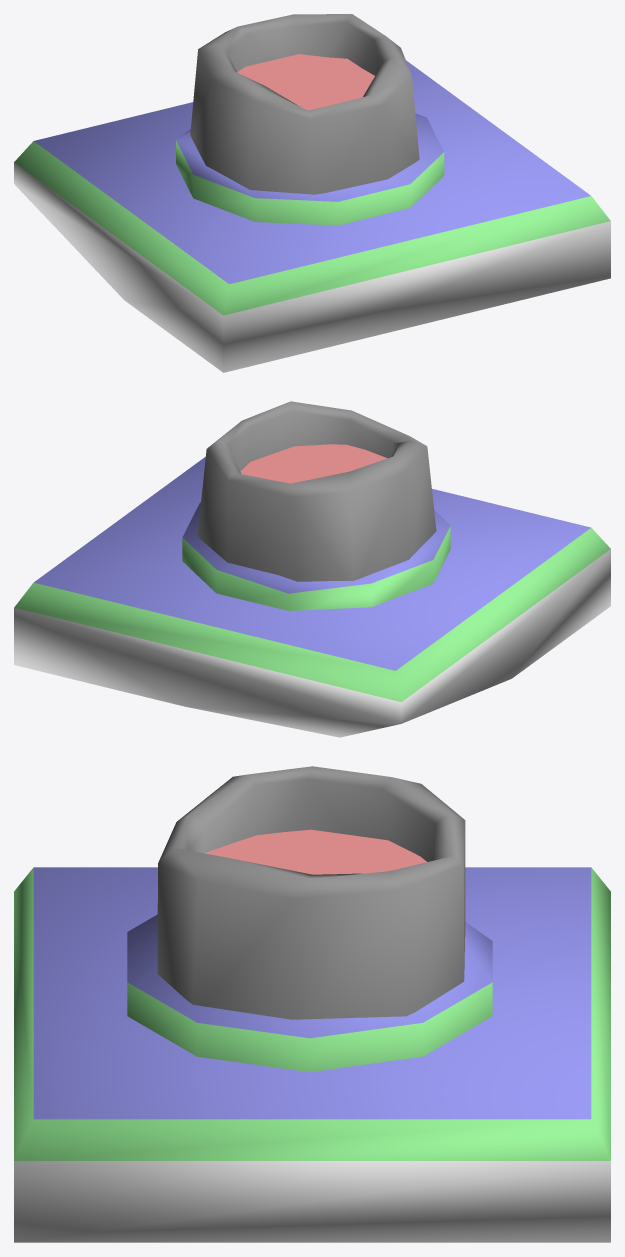
The model's file is Field_Deco_Artifact_S__world_obj05.gltf.
3 views of the same model, one above another, from view 1: azimuth 30°, elevation 25°; view 2: azimuth 150°, elevation 25°; view 3: azimuth 270°, elevation 25° (orthographic). The views are drawn at different scales.
Parts seen in each view (by area): view 1: world_obj05; view 2: world_obj05; view 3: world_obj05.
Part boxes in pixels (x1,y1,x2,y2): world_obj05: (14,14,610,372); world_obj05: (14,401,610,737); world_obj05: (14,766,610,1242).
Bounding box in the file's own units: 1.13 × 0.5595 × 1.06.
